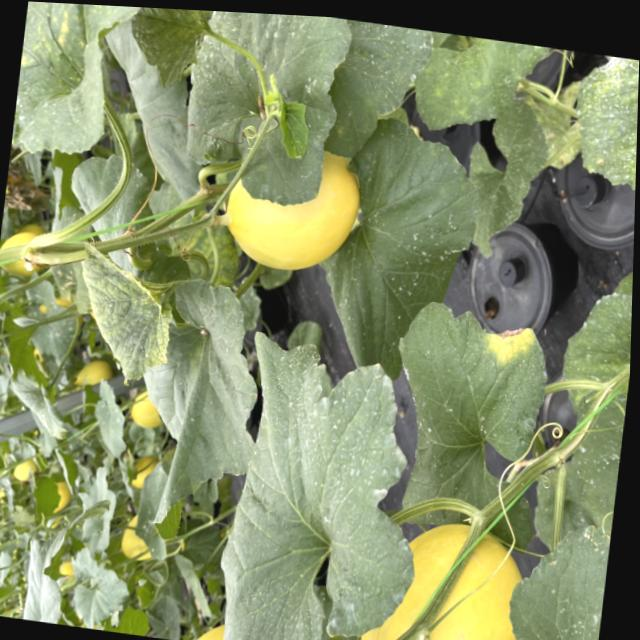SLCV: (125, 7, 215, 107)
alternaria leaf blight: (402, 311, 550, 530), (66, 247, 182, 387)
downy mildew: (9, 1, 157, 162)
healthy: (150, 274, 266, 495)
powdery mildew: (216, 337, 411, 640), (310, 121, 480, 367), (472, 510, 612, 640), (550, 49, 639, 212)
